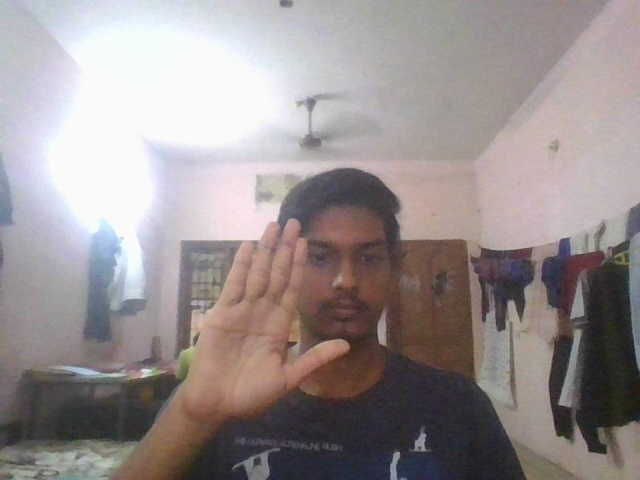hello: (178, 213, 348, 425)
